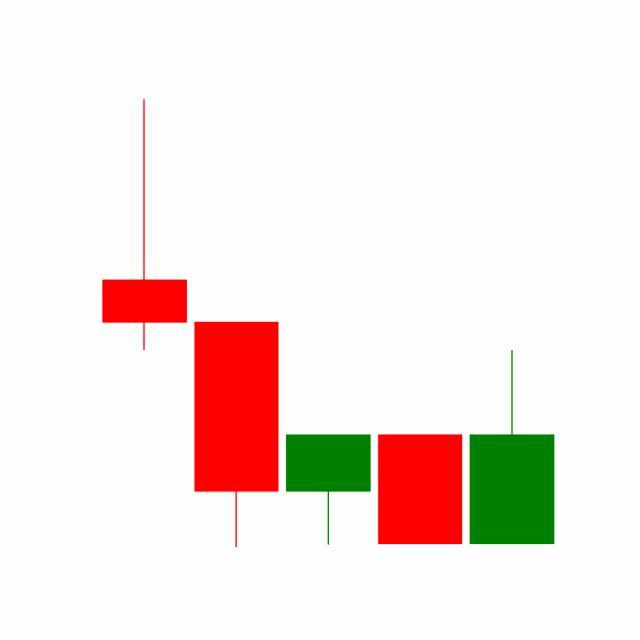Marubozu: (374, 434, 468, 546)
